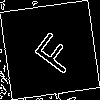F: (25, 25, 80, 77)
